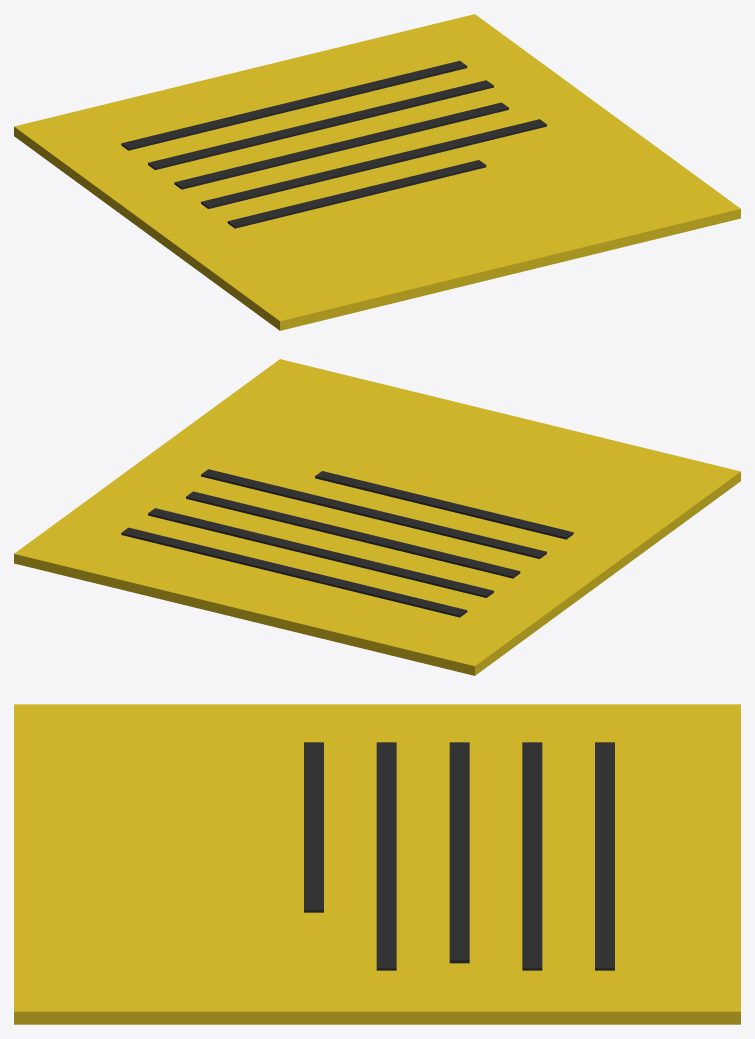
3 renders of one model, top to bottom at view 1: azimuth 30°, elevation 25°; view 2: azimuth 150°, elevation 25°; view 3: azimuth 270°, elevation 25°, orthographic. The views are drawn at different scales.
Visible parts, largest first — view 1: Cube, Cube.001, Cube.002, Cube.004, Cube.003, Cube.005; view 2: Cube, Cube.001, Cube.004, Cube.002, Cube.003, Cube.005; view 3: Cube, Cube.002, Cube.004, Cube.003, Cube.001, Cube.005.
Boxes of the visible parts, x1,y1,x2,y2 form: Cube: [14, 14, 740, 330]; Cube.001: [121, 60, 467, 150]; Cube.002: [148, 80, 493, 169]; Cube.004: [201, 119, 546, 208]; Cube.003: [174, 102, 508, 189]; Cube.005: [227, 160, 486, 228]; Cube: [14, 359, 740, 675]; Cube.001: [121, 527, 467, 617]; Cube.004: [201, 469, 546, 558]; Cube.002: [148, 508, 493, 597]; Cube.003: [186, 491, 520, 578]; Cube.005: [315, 471, 573, 539]; Cube: [14, 704, 740, 1024]; Cube.002: [522, 742, 542, 970]; Cube.004: [376, 742, 396, 970]; Cube.003: [449, 742, 469, 963]; Cube.001: [595, 742, 614, 970]; Cube.005: [304, 742, 323, 912].
Bounding box in the file's own units: 200 × 4.85 × 200.
